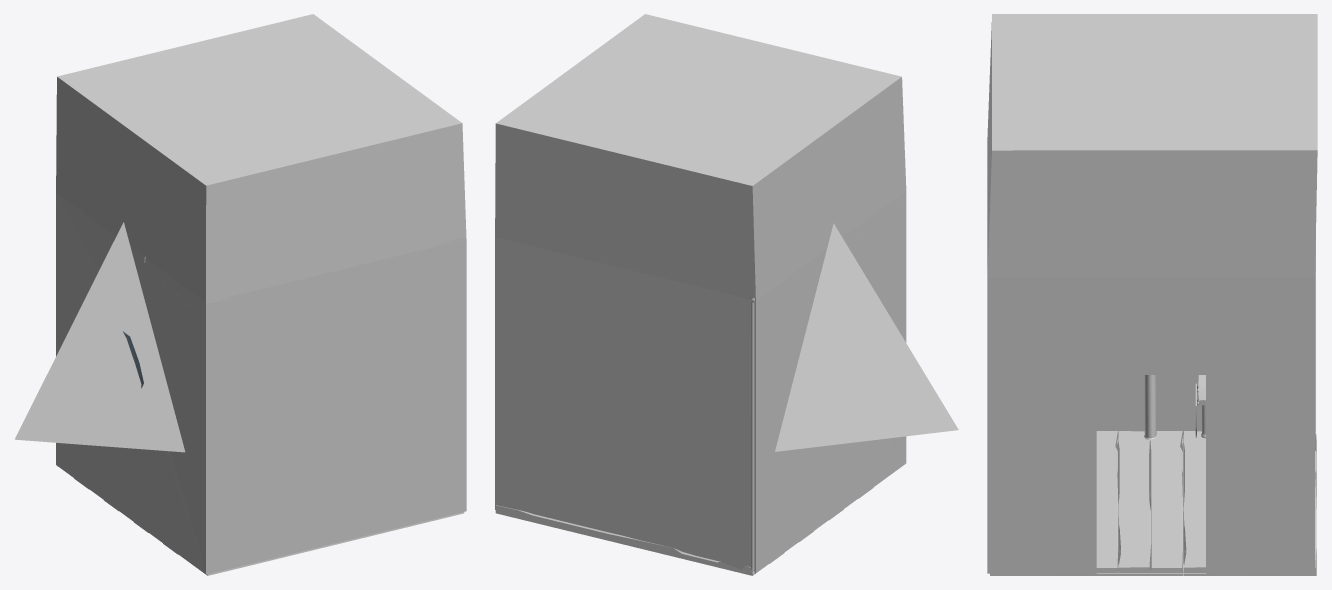
Rendered from Corentin Room.fbx.
3 renders of one model, left to right at view 1: azimuth 30°, elevation 25°; view 2: azimuth 150°, elevation 25°; view 3: azimuth 270°, elevation 25°, orthographic. The views are drawn at different scales.
Visible parts, largest first — view 1: Room, Eye mask, WoodenBoard.009; view 2: Room, Eye mask, WoodenBoard.009, 90°Pipe.006; view 3: Room, WoodenBoard.009, 90°Pipe.006.
Boxes of the visible parts, box(x1,y1,x2,y2) form: Room: box(56, 14, 466, 574); Eye mask: box(14, 222, 185, 452); WoodenBoard.009: box(74, 237, 465, 575); Room: box(495, 14, 906, 573); Eye mask: box(775, 223, 958, 451); WoodenBoard.009: box(495, 233, 873, 575); 90°Pipe.006: box(750, 279, 782, 574); Room: box(987, 14, 1317, 573); WoodenBoard.009: box(987, 268, 1316, 575); 90°Pipe.006: box(1144, 239, 1316, 441).
Size of the model in its own units: 441 by 430 by 302.
